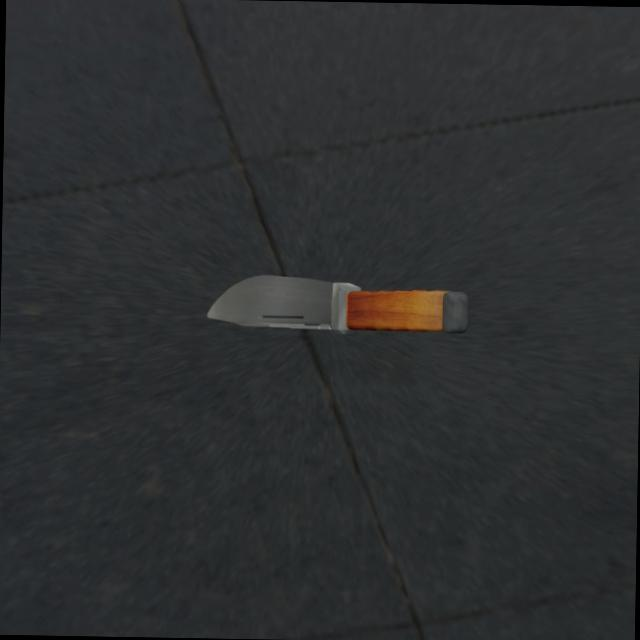knife: (336, 286, 436, 334)
